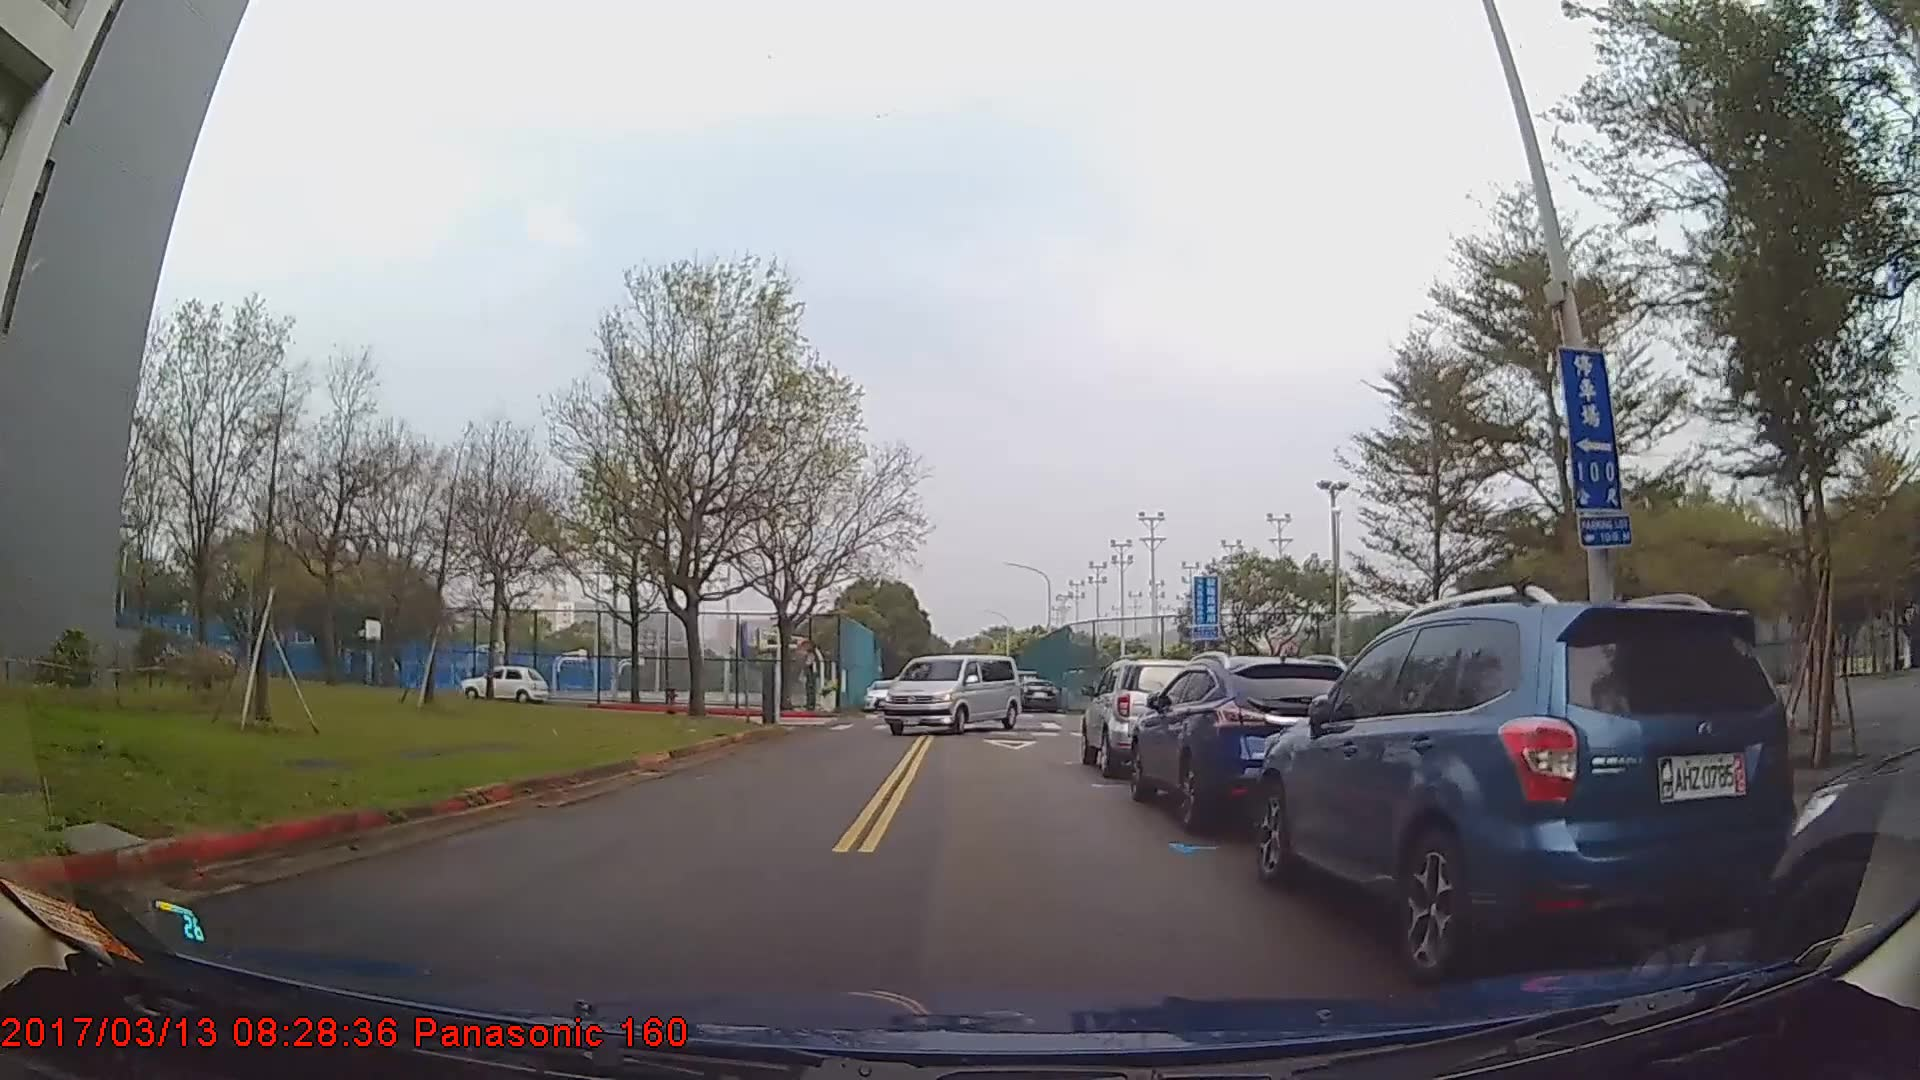vehicle: (1247, 597, 1797, 975), (1127, 654, 1362, 832), (1081, 657, 1207, 775), (880, 651, 1021, 738), (462, 663, 549, 704), (1014, 674, 1060, 711), (862, 676, 902, 712)
